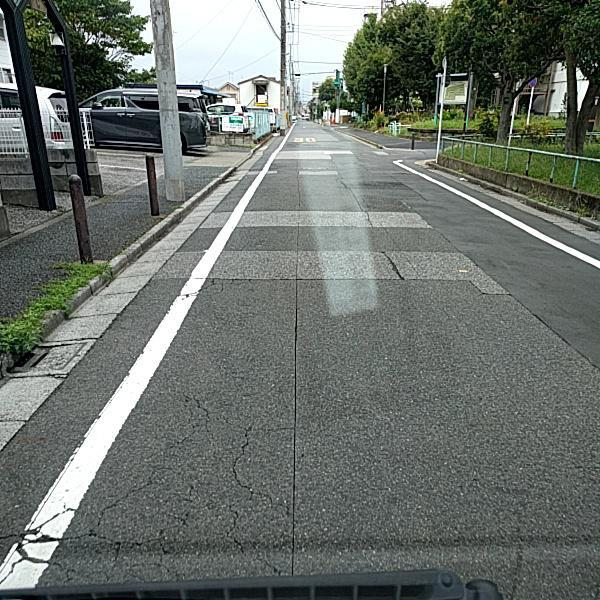D20: (19, 409, 287, 580), (188, 276, 252, 303)
